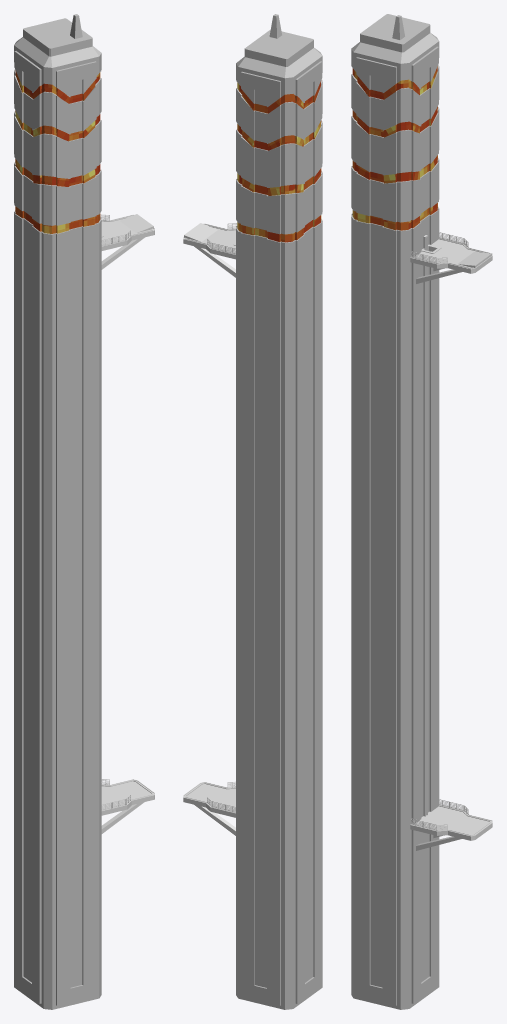
File: Eevator contraption.fbx
3 views of the same model, side by side, from view 1: azimuth 30°, elevation 25°; view 2: azimuth 150°, elevation 25°; view 3: azimuth 330°, elevation 25° (orthographic).
Visible parts, largest first — view 1: Cube__4__003__4_, Cube.002, Cube.001, Cube.003; view 2: Cube__4__003__4_, Cube.002, Cube.001, Cube.003; view 3: Cube__4__003__4_, Cube, Cube.002, Cube.001, Cube.010, Cube.004.
Boxes of the visible parts, <box> form: Cube__4__003__4_: <box>14,14,101,1009</box>; Cube.002: <box>101,779,154,815</box>; Cube.001: <box>101,214,154,250</box>; Cube.003: <box>119,214,153,232</box>; Cube__4__003__4_: <box>236,14,322,1009</box>; Cube.002: <box>183,782,235,817</box>; Cube.001: <box>183,223,235,259</box>; Cube.003: <box>184,223,217,241</box>; Cube__4__003__4_: <box>351,14,439,1009</box>; Cube: <box>423,235,427,816</box>; Cube.002: <box>410,804,492,840</box>; Cube.001: <box>410,237,492,273</box>; Cube.010: <box>411,799,468,830</box>; Cube.004: <box>411,232,468,263</box>.
Bounding box in the file's own units: 1830 × 14353 × 1011.
